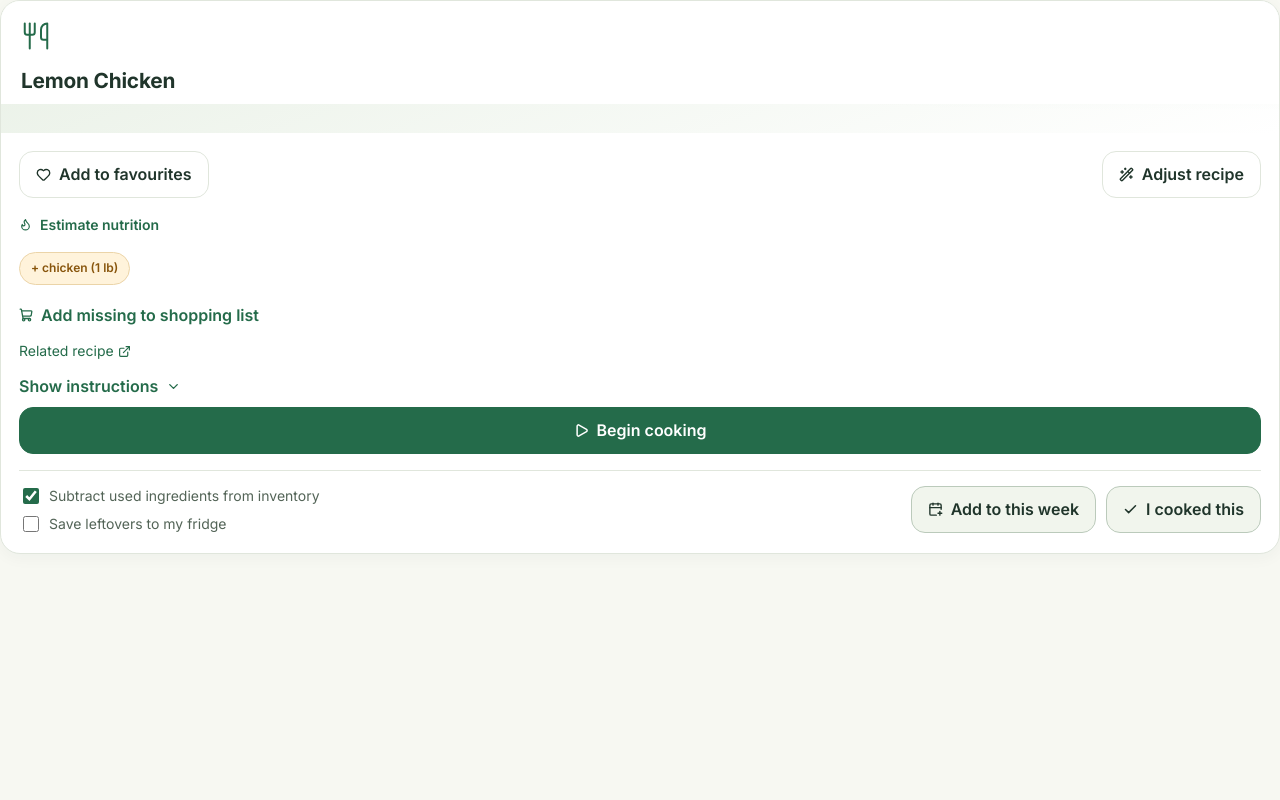
cooking a saved recipe logs a copy and leaves the card in the book
The image size is (1280, 800).
Step 1. Click the button "I cooked this" → (1184, 510), box x1=1106 y1=486 x2=1261 y2=533
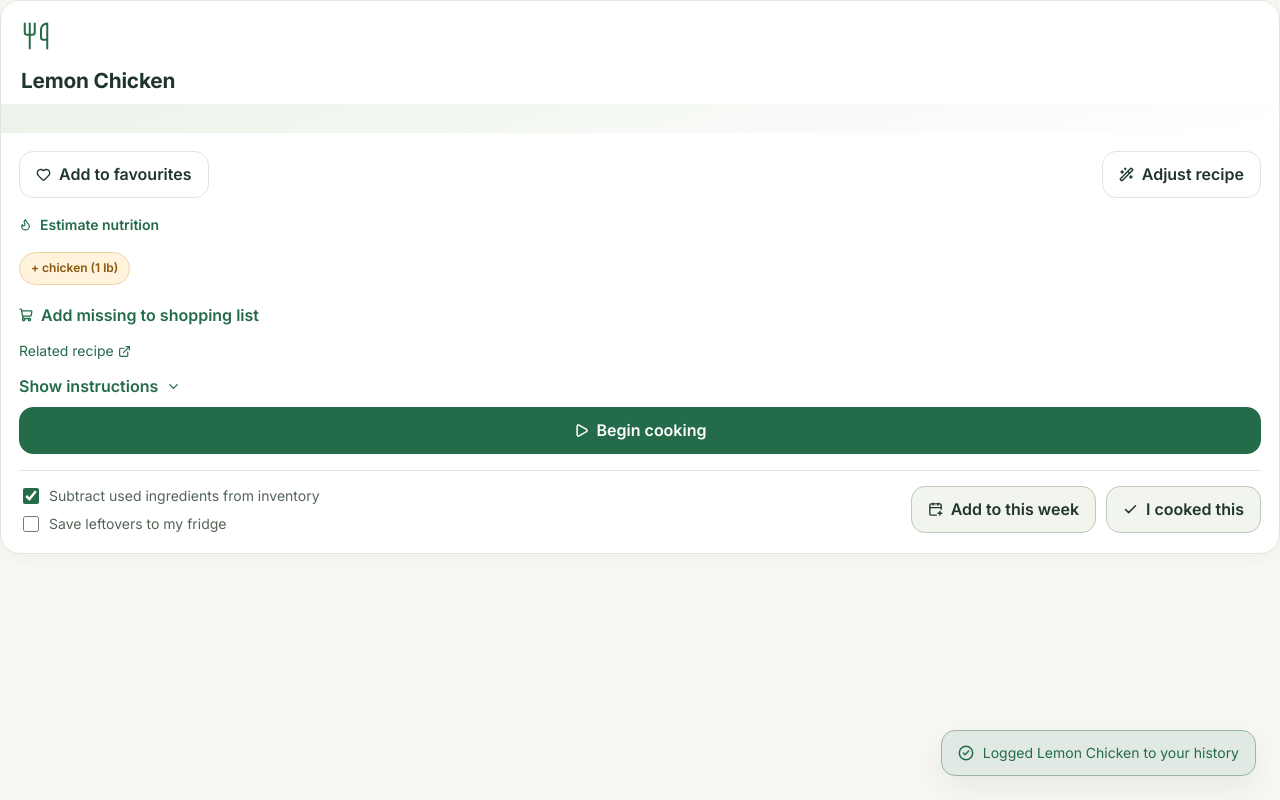
Now the text "Logged Lemon Chicken to your history" is shown, box x1=983 y1=742 x2=1239 y2=764
